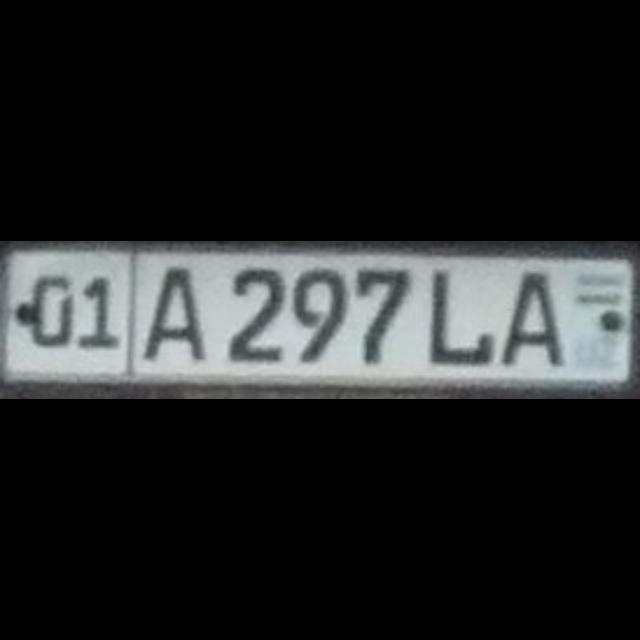0: (28, 272, 66, 344)
1: (72, 272, 120, 346)
2: (222, 264, 282, 362)
7: (355, 264, 411, 362)
9: (292, 264, 346, 360)
A: (138, 264, 206, 360), (500, 267, 562, 365)
L: (428, 262, 492, 364)
